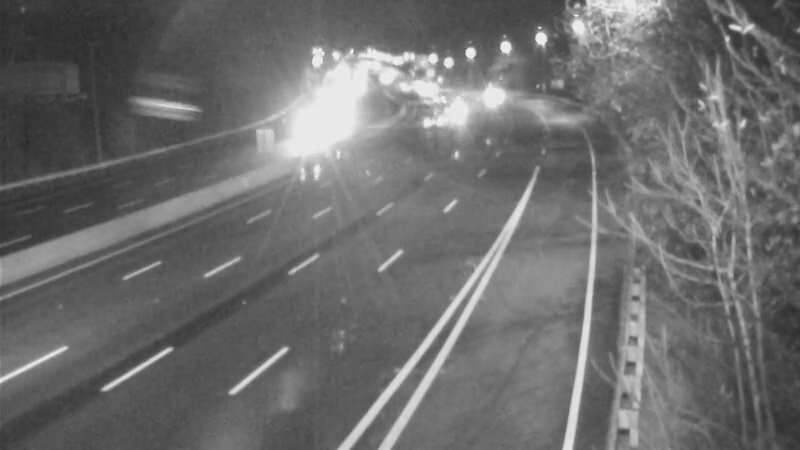vehicle: (463, 73, 513, 123), (411, 72, 461, 122), (435, 80, 485, 130), (406, 94, 456, 144), (299, 100, 349, 150)
